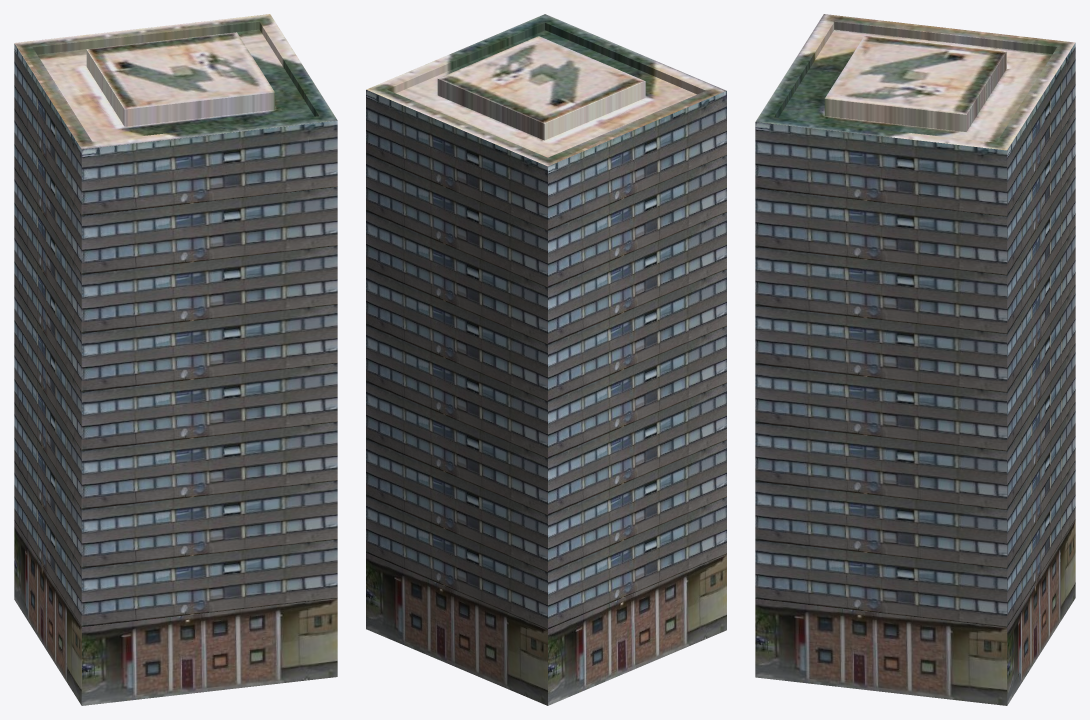
3 renders of one model, left to right at view 1: azimuth 30°, elevation 25°; view 2: azimuth 150°, elevation 25°; view 3: azimuth 270°, elevation 25°, orthographic. The views are drawn at different scales.
Parts seen in each view (by area): view 1: SketchUp (×5); view 2: SketchUp (×6); view 3: SketchUp (×6).
Boxes of the visible parts, box(x1,y1,x2,y2) form: SketchUp (×5): box(14, 14, 337, 705); SketchUp (×6): box(366, 14, 726, 705); SketchUp (×6): box(755, 14, 1075, 705).
Bounding box in the file's own units: 1015 × 1007 × 1959.
45 materials, 37 textured.
